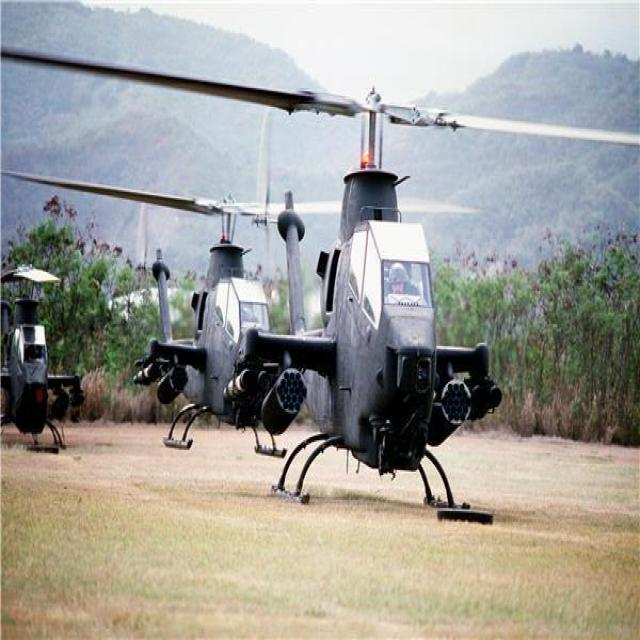MIL_HELO: (215, 41, 499, 551), (150, 198, 267, 444), (1, 250, 83, 464)
